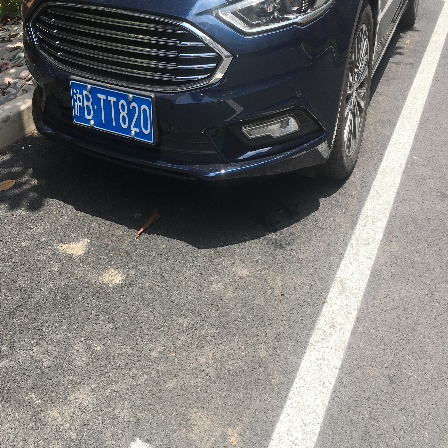plate: (66, 78, 158, 148)
